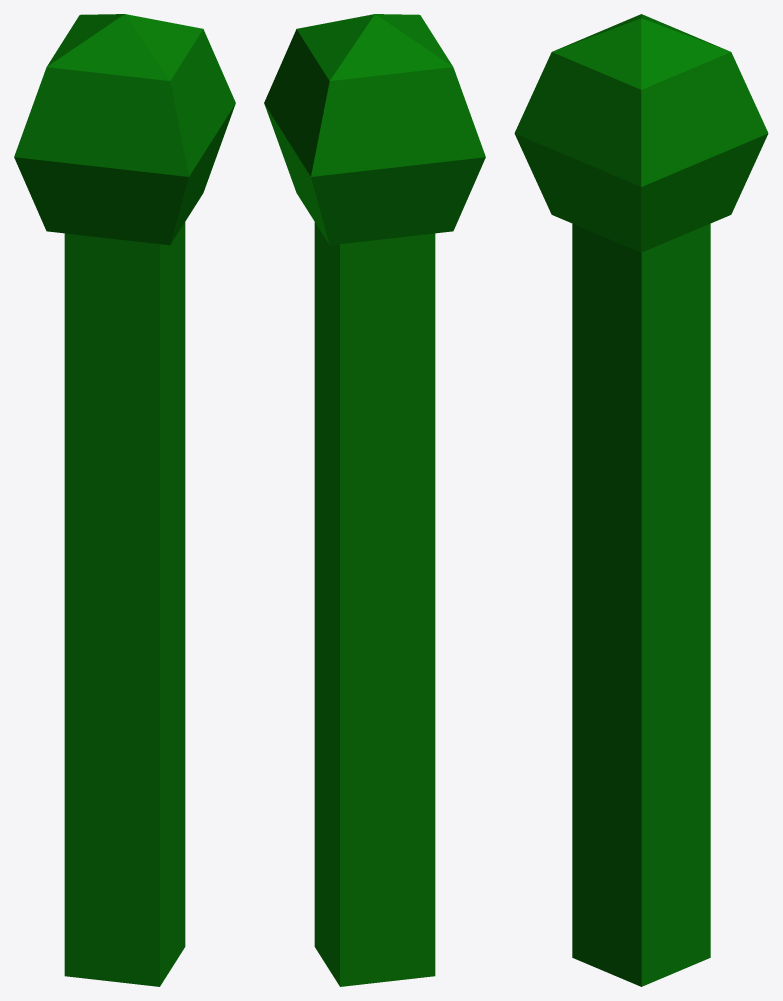
The model's file is GeländerSteher [Grün]_1874.glb.
The picture shows the model from 3 angles, left to right: view 1: azimuth 30°, elevation 25°; view 2: azimuth 150°, elevation 25°; view 3: azimuth 270°, elevation 25°; orthographic projection.
Visible parts, largest first — view 1: pCylinderShape1, pSphereShape1; view 2: pCylinderShape1, pSphereShape1; view 3: pCylinderShape1, pSphereShape1.
Part boxes in pixels (x1,y1,x2,y2): pCylinderShape1: (64,222,185,986); pSphereShape1: (14,14,235,245); pCylinderShape1: (314,222,435,986); pSphereShape1: (264,14,485,245); pCylinderShape1: (572,223,710,986); pSphereShape1: (514,14,768,252).
Size of the model in its own units: 0.0446 by 0.1821 by 0.0446.
